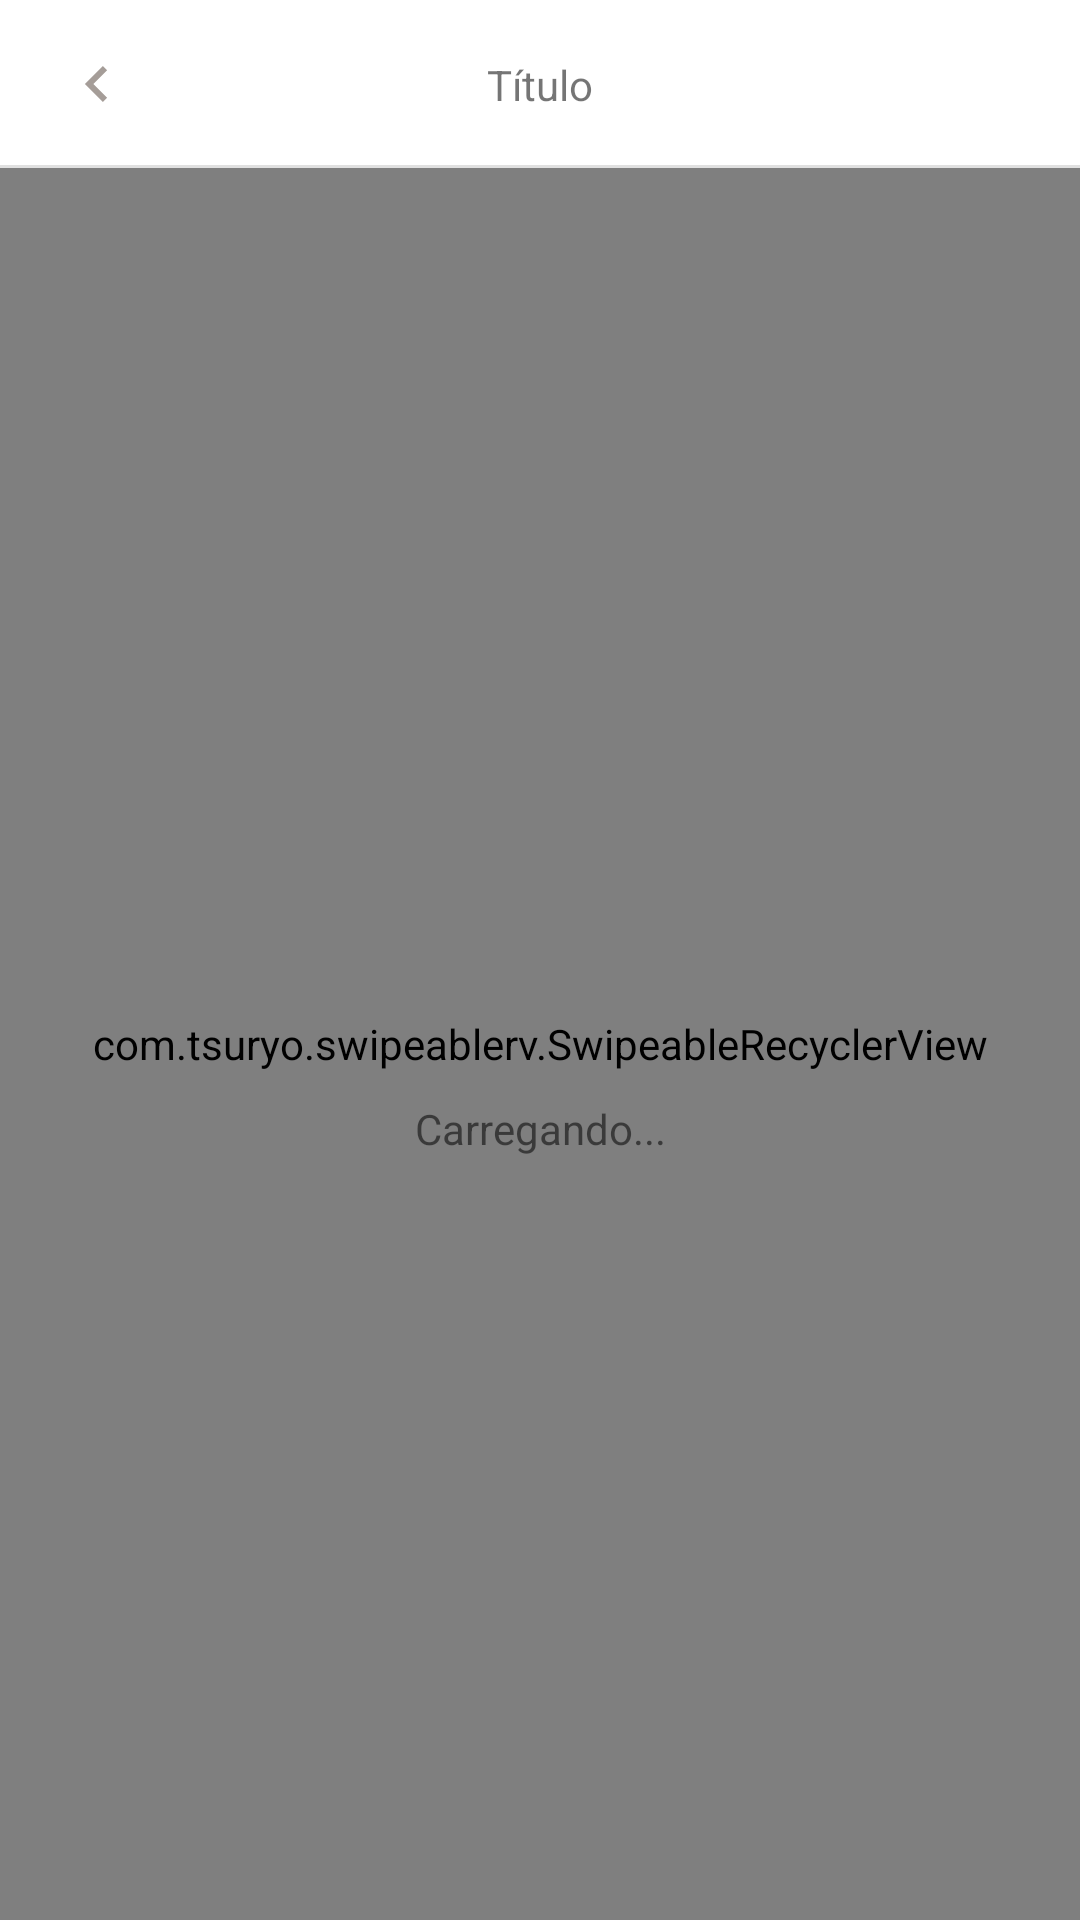

Named icons in this screenshot (1080*1920) and their centers, (x,y):
voltar: (96,84)
